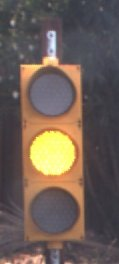Yellow: (9, 26, 100, 264)
